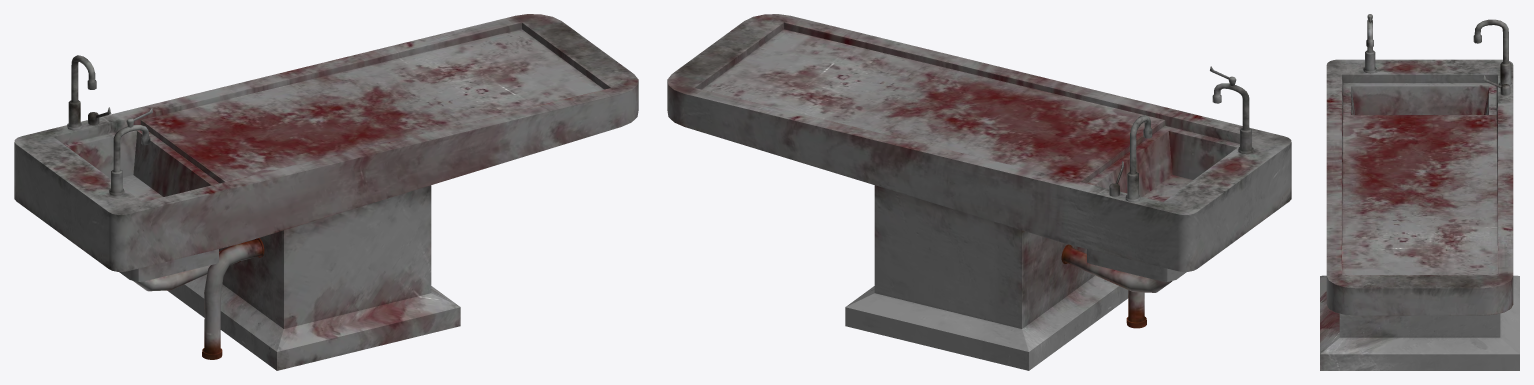
Rendered from autopsy_table.glb.
3 views of the same model, side by side, from view 1: azimuth 30°, elevation 25°; view 2: azimuth 150°, elevation 25°; view 3: azimuth 270°, elevation 25° (orthographic). The views are drawn at different scales.
Visible parts, largest first — view 1: autopsy_table; view 2: autopsy_table; view 3: autopsy_table.
Part boxes in pixels (x1,y1,x2,y2): autopsy_table: [14, 14, 638, 370]; autopsy_table: [667, 14, 1291, 370]; autopsy_table: [1320, 14, 1519, 370].
Bounding box in the file's own units: 2.23 × 1.07 × 0.8256.
1 material, 1 textured.
